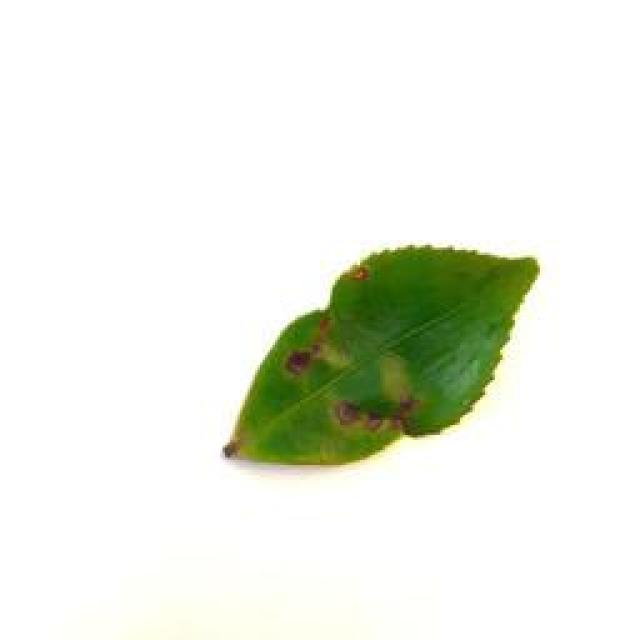Helopeltis: (223, 237, 545, 468)
